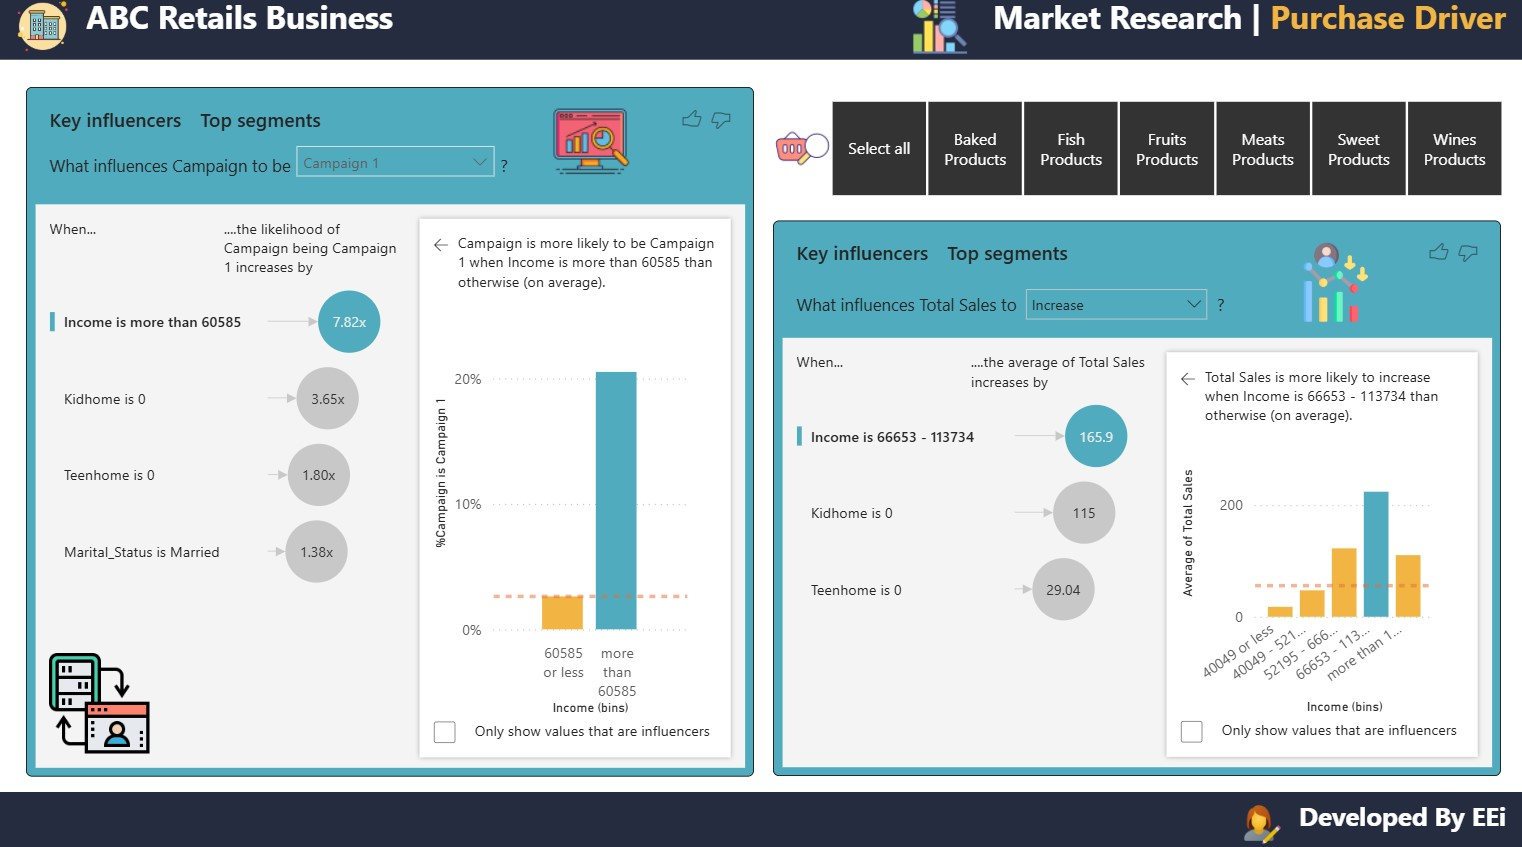

This screenshot's page, from the dashboard's own definition file:
{"tool":"powerbi","page":{"name":"Purchase Driver","canvas":[1280,720],"ordinal":2},"visuals":[{"type":"shape","box":[0,0,1279.6,59.7],"z":0},{"type":"shape","box":[0,672,1280,48],"z":1000},{"type":"textbox","box":[688,0,576,64],"z":3000},{"type":"textbox","box":[688,672,576,48],"z":4000},{"type":"keyDriversVisual","fields":{"Target":["Campaign.Campaign"],"ExplainBy":["Market_Research.Age","Market_Research. Income ","Market_Research.Country","Market_Research.Education","Market_Research.Marital_Status","Market_Research.Teenhome","Market_Research.Kidhome"]},"box":[22.9,82.3,608,576],"z":5000},{"type":"keyDriversVisual","fields":{"Target":["Product.Total Sales"],"ExplainBy":["Market_Research.Age","Market_Research. Income ","Market_Research.Country","Market_Research.Education","Market_Research.Marital_Status","Market_Research.Teenhome","Market_Research.Kidhome"]},"box":[646.9,194.3,608,464],"z":6000},{"type":"slicer","title":"Products","fields":{"Values":["Product.Product"]},"box":[670.9,88.2,608.6,92.1],"z":7000},{"type":"image","box":[744.9,3.9,81.8,57.1],"z":8000},{"type":"image","box":[451.6,88.2,86.9,80.5],"z":9000},{"type":"image","box":[1075.8,205,80.5,80.5],"z":10000},{"type":"image","box":[632,88.2,79.2,92.1],"z":11000},{"type":"image","box":[1029.1,672.2,46.7,48],"z":12000},{"type":"image","box":[35,548.9,97.3,97.3],"z":13000},{"type":"image","box":[2.6,0,67.5,63.6],"z":13001},{"type":"textbox","box":[67.5,0,332.2,57.1],"z":13002}]}

Visuals, with their boxes in screenshot pixels (x1, y1, x2, y2), scaled from the page's 1280x720 canvas onto the 1522x847 screenshot:
shape: 0, 0, 1521, 70
shape: 0, 791, 1521, 846
textbox: 818, 0, 1503, 75
textbox: 818, 791, 1503, 846
keyDriversVisual - Campaign.Campaign x Market_Research.Age: 27, 97, 750, 774
keyDriversVisual - Product.Total Sales x Market_Research.Age: 769, 229, 1492, 774
"Products" slicer: 798, 104, 1521, 212
image: 886, 5, 983, 72
image: 537, 104, 640, 198
image: 1279, 241, 1375, 336
image: 751, 104, 846, 212
image: 1224, 791, 1279, 846
image: 42, 646, 157, 760
image: 3, 0, 83, 75
textbox: 80, 0, 475, 67
